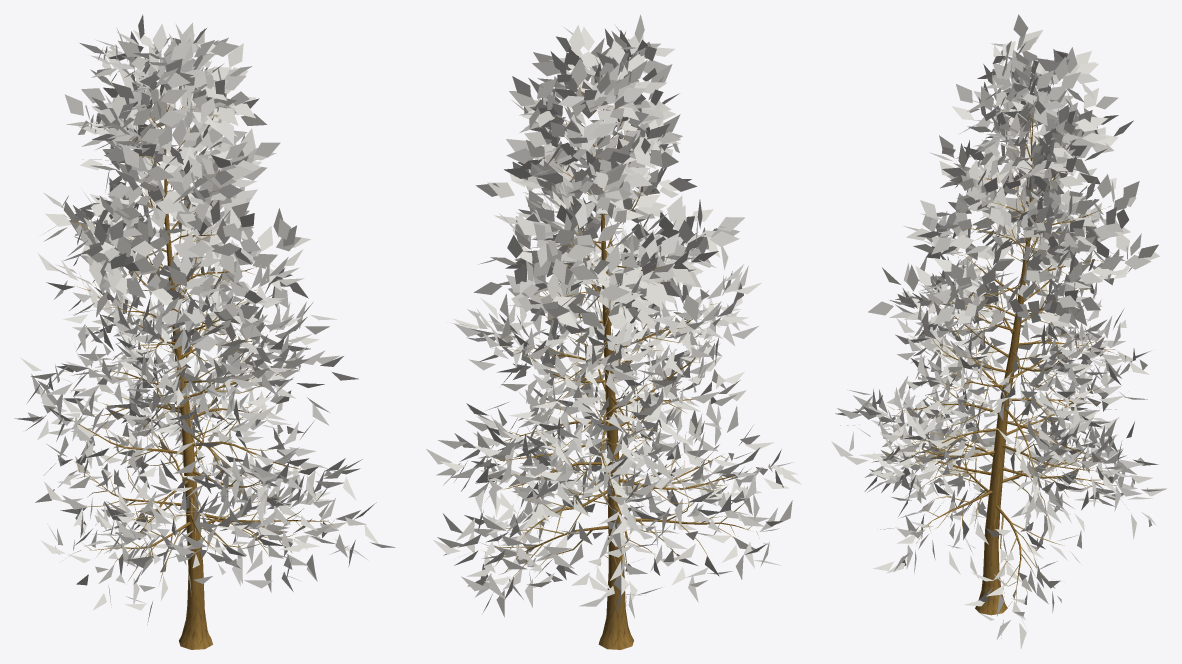
Rendered from tree_lod.glb.
The picture shows the model from 3 angles, left to right: view 1: azimuth 30°, elevation 25°; view 2: azimuth 150°, elevation 25°; view 3: azimuth 270°, elevation 25°; orthographic projection. The views are drawn at different scales.
Parts seen in each view (by area): view 1: Leaves, Branches1, Branches2; view 2: Leaves, Branches1, Branches2; view 3: Leaves, Branches1, Branches2.
Boxes of the visible parts, x1,y1,x2,y2 form: Leaves: (14,14,395,624); Branches1: (64,103,328,649); Branches2: (61,86,340,582); Leaves: (426,14,801,618); Branches1: (497,87,746,649); Branches2: (484,85,759,584); Leaves: (831,14,1166,648); Branches1: (886,110,1112,615); Branches2: (873,86,1122,607).
Bounding box in the file's own units: 4.53 × 8.5 × 4.5.
Materials: 3 (1 with a texture image).
